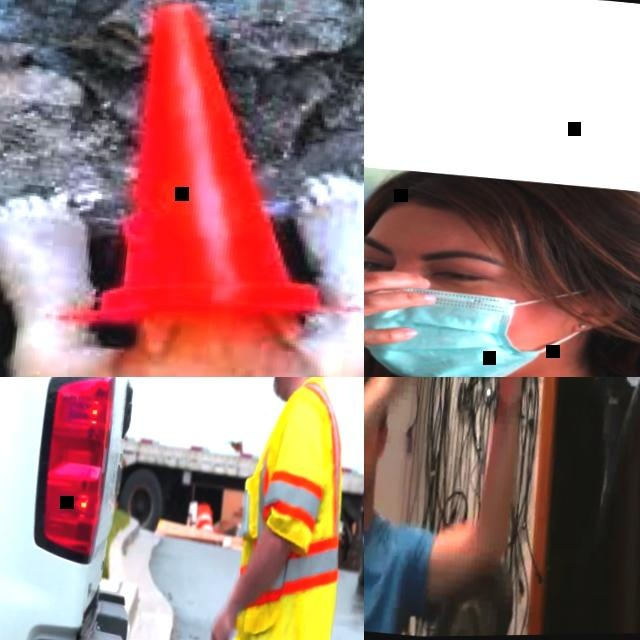Mask: (364, 267, 593, 377)
NO-Hardhat: (364, 161, 640, 261)
NO-Mask: (268, 377, 300, 402), (364, 456, 376, 506)
NO-Safety Vest: (364, 504, 414, 636)
Person: (364, 142, 640, 377), (189, 377, 364, 640), (364, 377, 535, 639)
Safety Cone: (51, 0, 336, 349), (194, 503, 215, 532)
Safety Vest: (213, 377, 359, 640)
vehicle: (0, 377, 225, 640)
